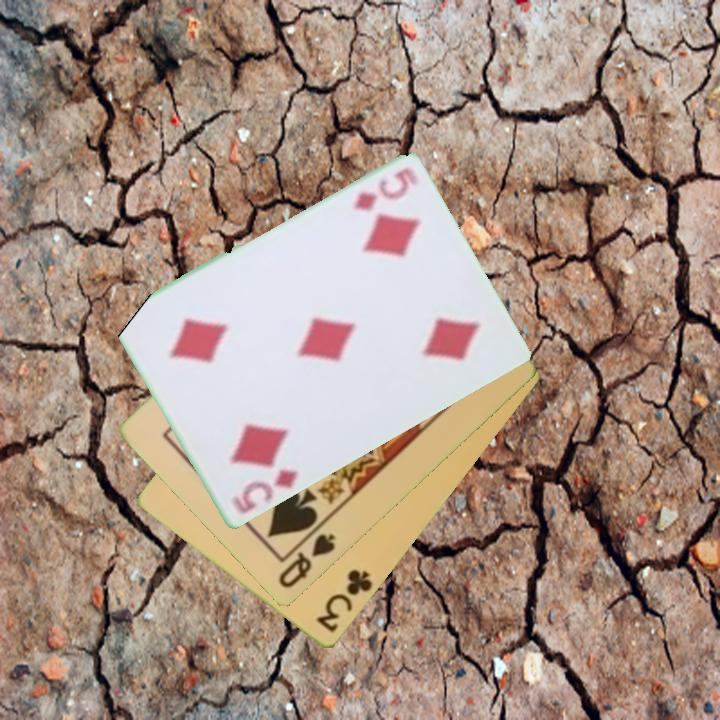3c: (313, 566, 375, 636)
5d: (227, 466, 301, 518), (350, 164, 421, 214)
Qs: (274, 530, 339, 592)
